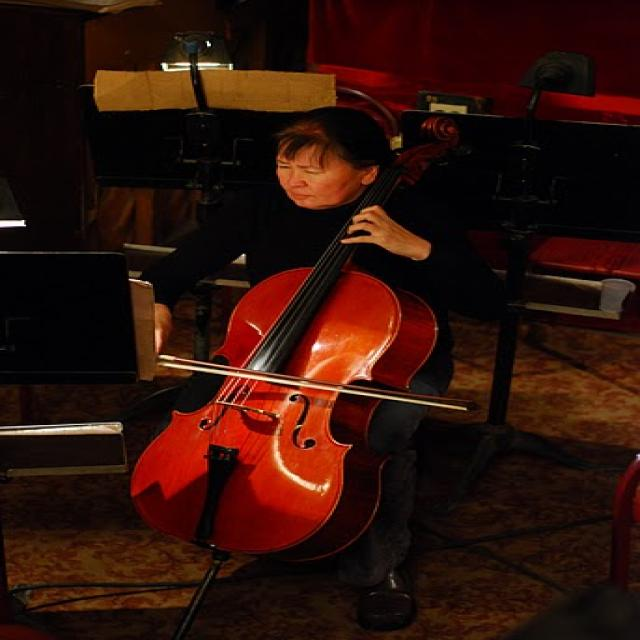cello: (133, 118, 466, 565)
